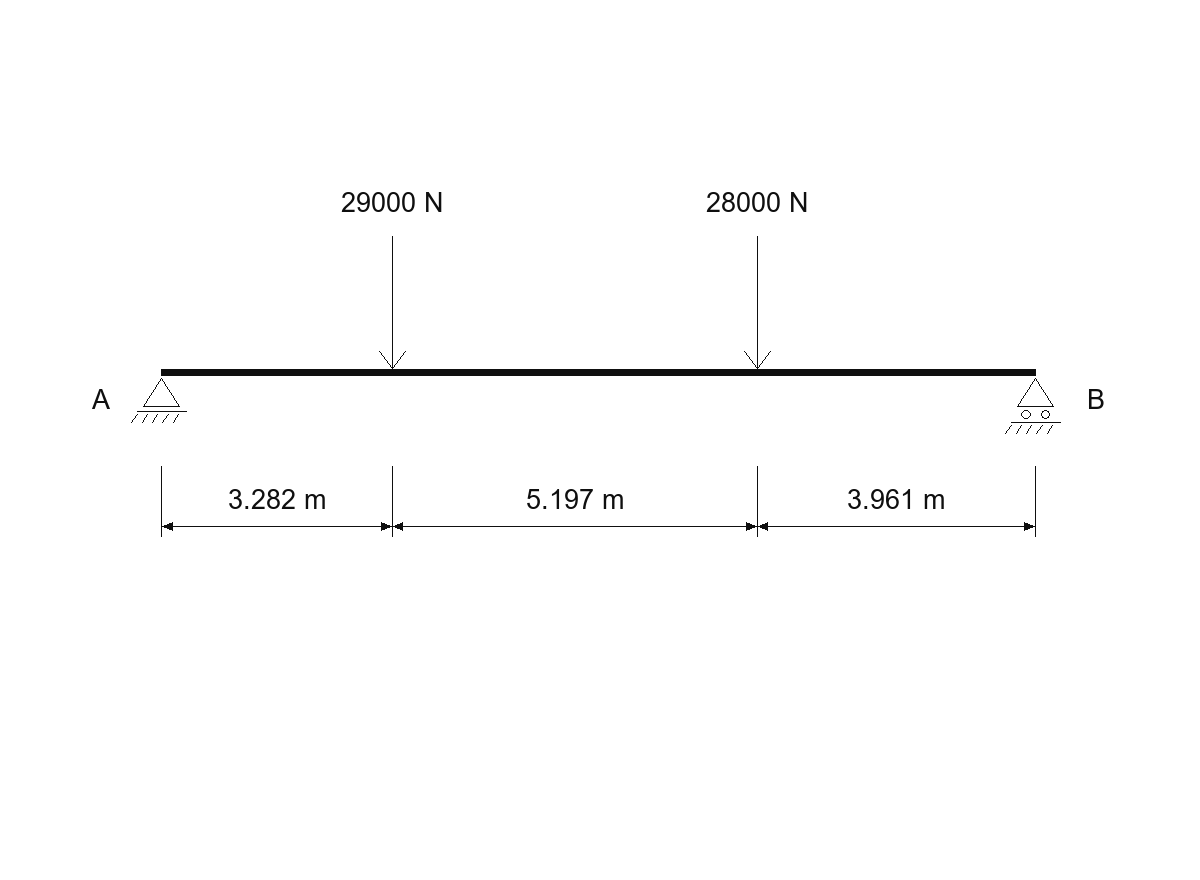pin_support: (131, 378, 187, 423)
point_load: (379, 236, 406, 369), (744, 236, 771, 369)
roller_support: (1005, 378, 1061, 434)
